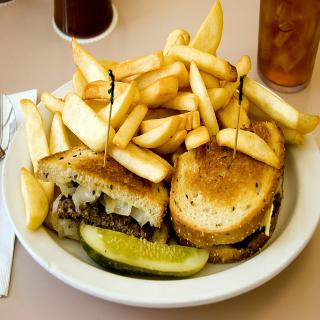French fries: (17, 0, 317, 234)
